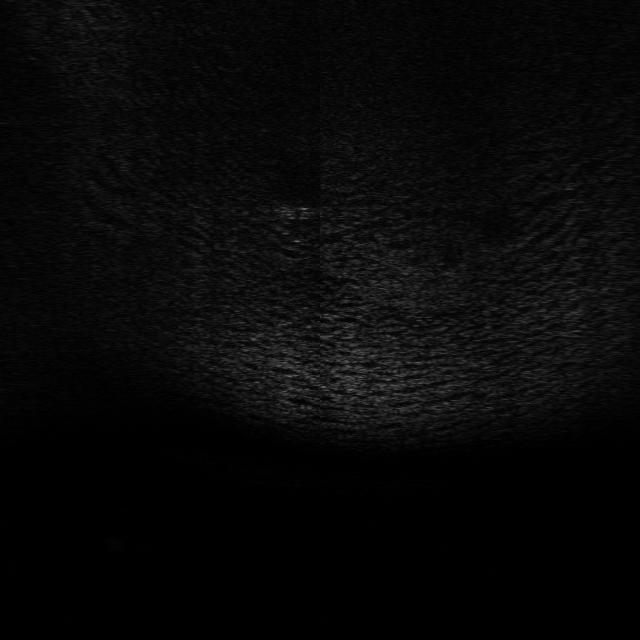plane: (270, 200, 330, 223)
